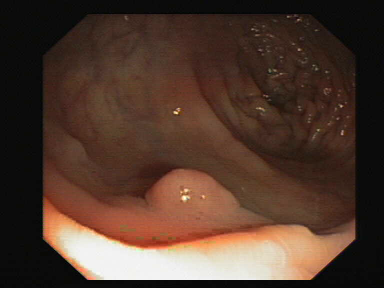polyp: (129, 152, 266, 230)
